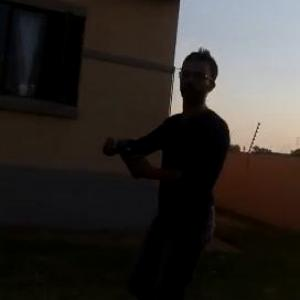follow: (96, 40, 232, 299)
